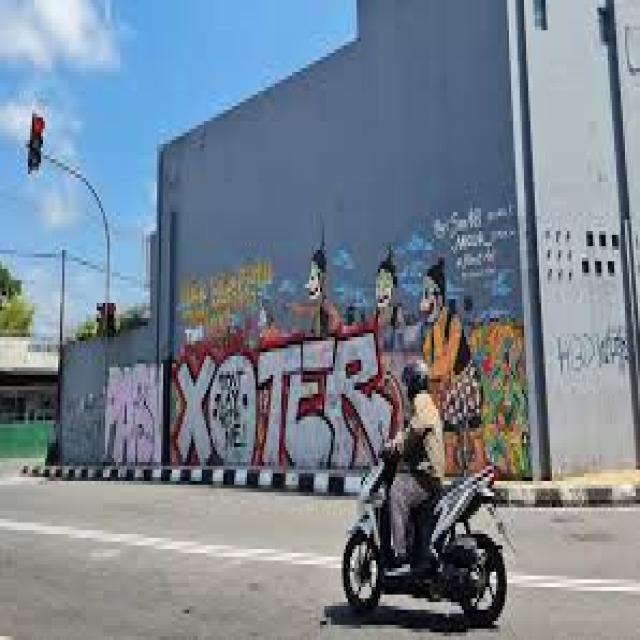-: (304, 207, 530, 481), (172, 327, 394, 475), (178, 272, 274, 348), (106, 350, 164, 470), (558, 326, 636, 386)
